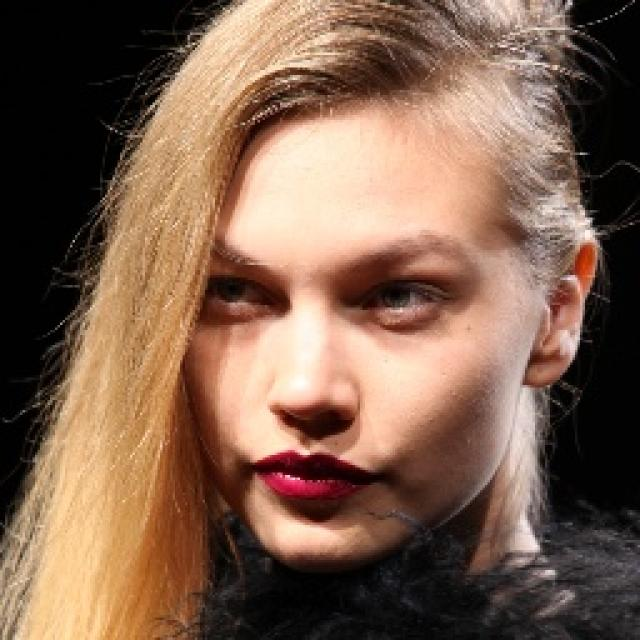earlobe: (526, 228, 598, 384)
